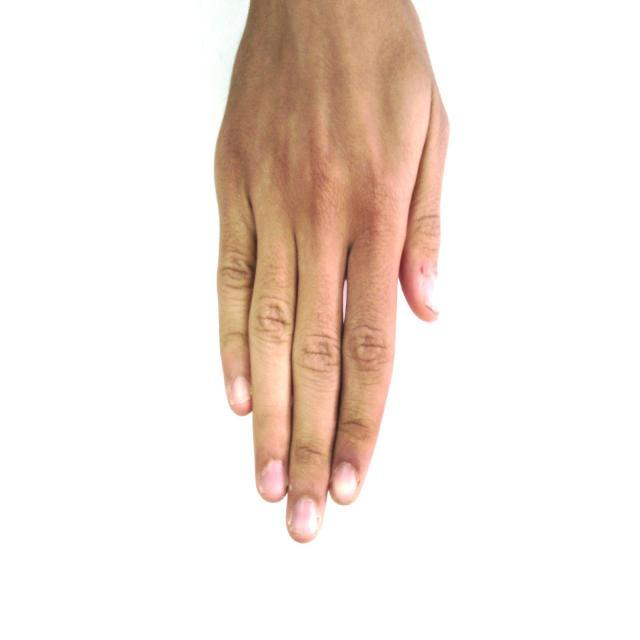Fingernail: (331, 463, 358, 502), (292, 498, 318, 536), (262, 460, 286, 498), (423, 273, 439, 312), (232, 378, 249, 404)
